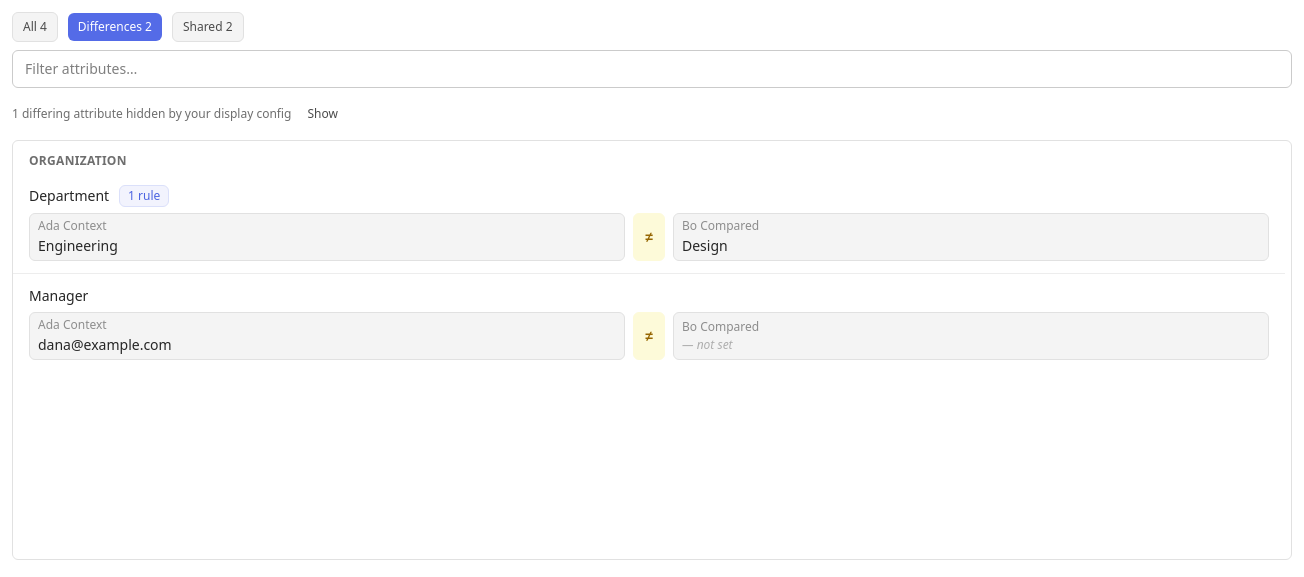
ComparisonAttributesTab › filters on a value, not only on the attribute name
Type "engineering" into the search field named "Filter attributes by name or value". click: (652, 69)
box: [12, 50, 1292, 88]
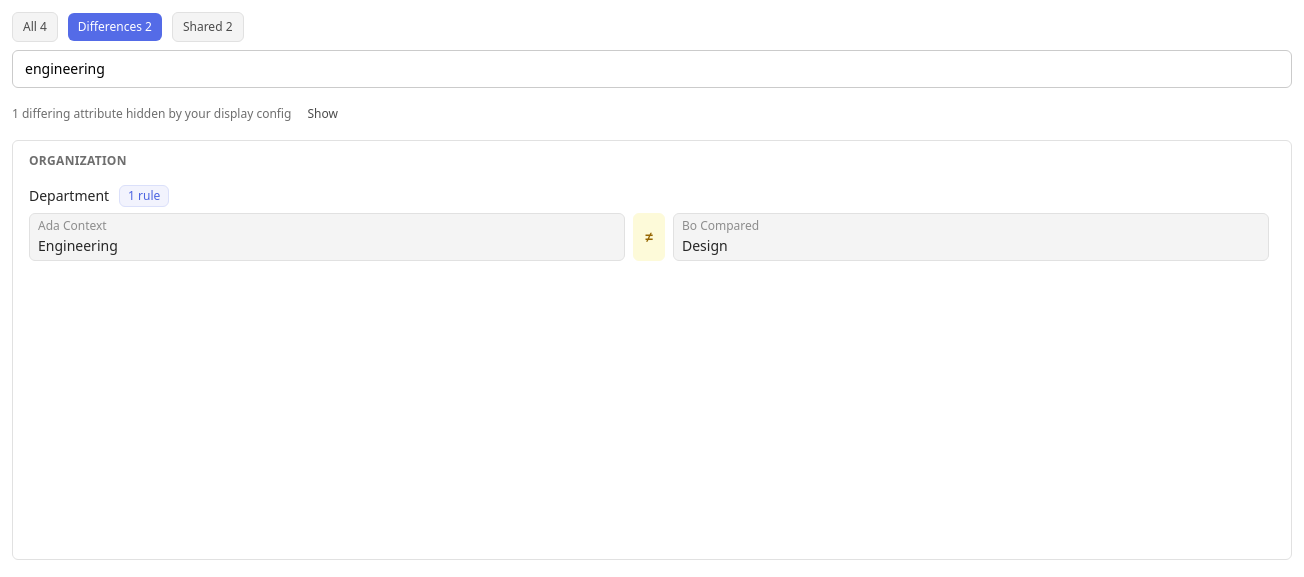
expect the text "Department" is shown: met, box [29, 186, 109, 206]
expect the text "Manager" is gone: met
